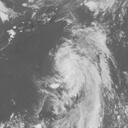cyclone: (37, 25, 114, 127)
